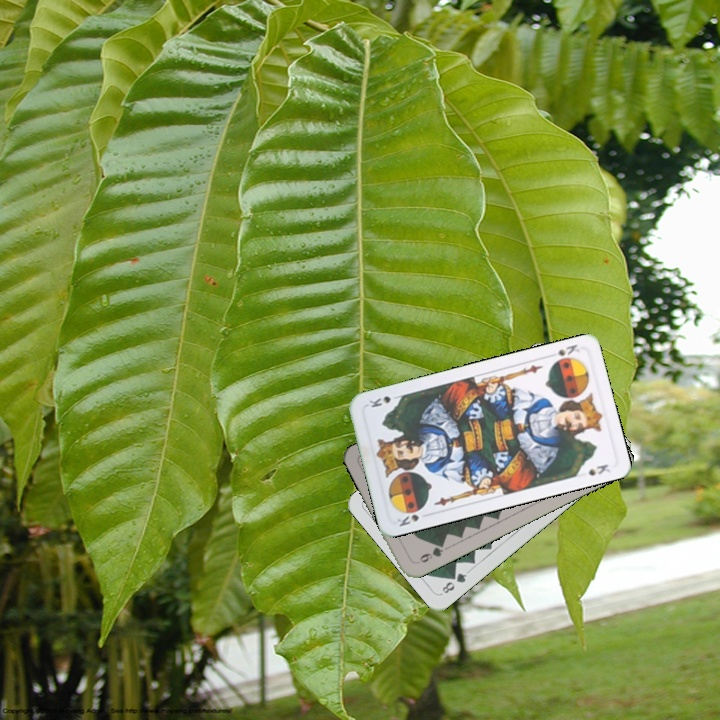G8: (438, 569, 470, 596)
G9: (411, 539, 447, 566)
SK: (544, 340, 582, 360), (393, 510, 422, 529)
